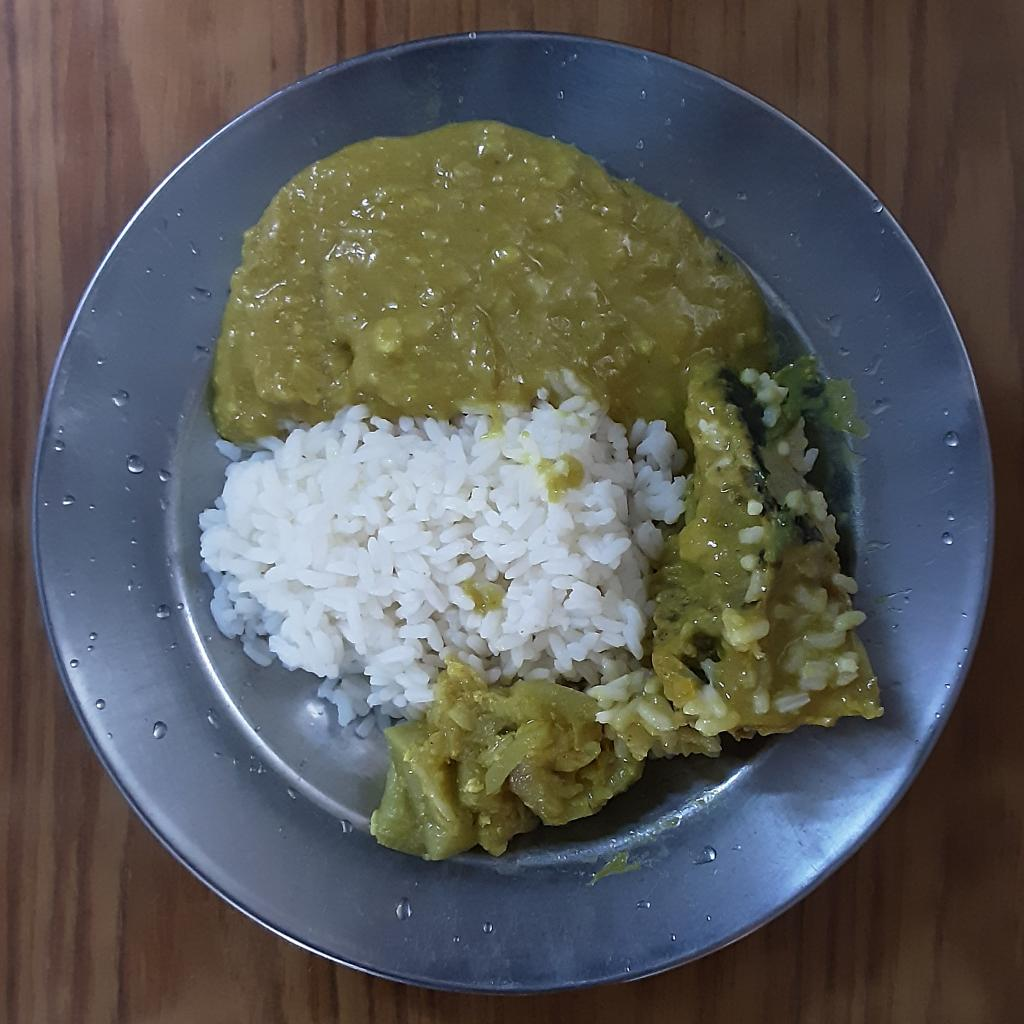daal: (212, 120, 774, 437)
dundol: (649, 371, 880, 743)
lau: (372, 668, 639, 862)
rice: (196, 366, 716, 765)
